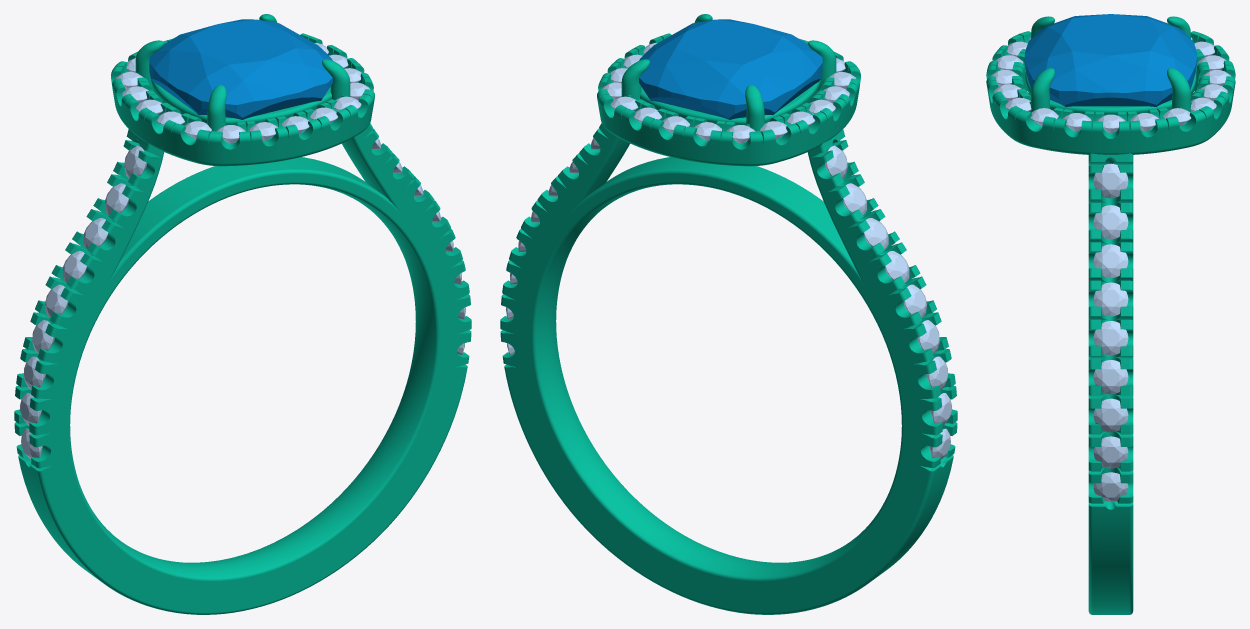
3 renders of one model, left to right at view 1: azimuth 30°, elevation 25°; view 2: azimuth 150°, elevation 25°; view 3: azimuth 270°, elevation 25°, orthographic.
Parts seen in each view (by area): view 1: yellow diamond ring(RENDER).3dm, Diamond_Cushion Square, Bezel; view 2: yellow diamond ring(RENDER).3dm, Diamond_Cushion Square, Bezel; view 3: yellow diamond ring(RENDER).3dm, Diamond_Cushion Square, GemOnCrv (×9), Bezel.
Boxes of the visible parts, x1,y1,x2,y2 form: yellow diamond ring(RENDER).3dm: (14, 14, 471, 614); Diamond_Cushion Square: (149, 19, 332, 119); Bezel: (150, 78, 331, 125); yellow diamond ring(RENDER).3dm: (500, 14, 957, 614); Diamond_Cushion Square: (639, 19, 822, 119); Bezel: (640, 78, 821, 125); yellow diamond ring(RENDER).3dm: (986, 16, 1235, 614); Diamond_Cushion Square: (1024, 14, 1197, 106); GemOnCrv (×9): (1093, 163, 1128, 502); Bezel: (1025, 72, 1196, 115).
Size of the model in its own units: 2.42 by 2.95 by 1.2.
